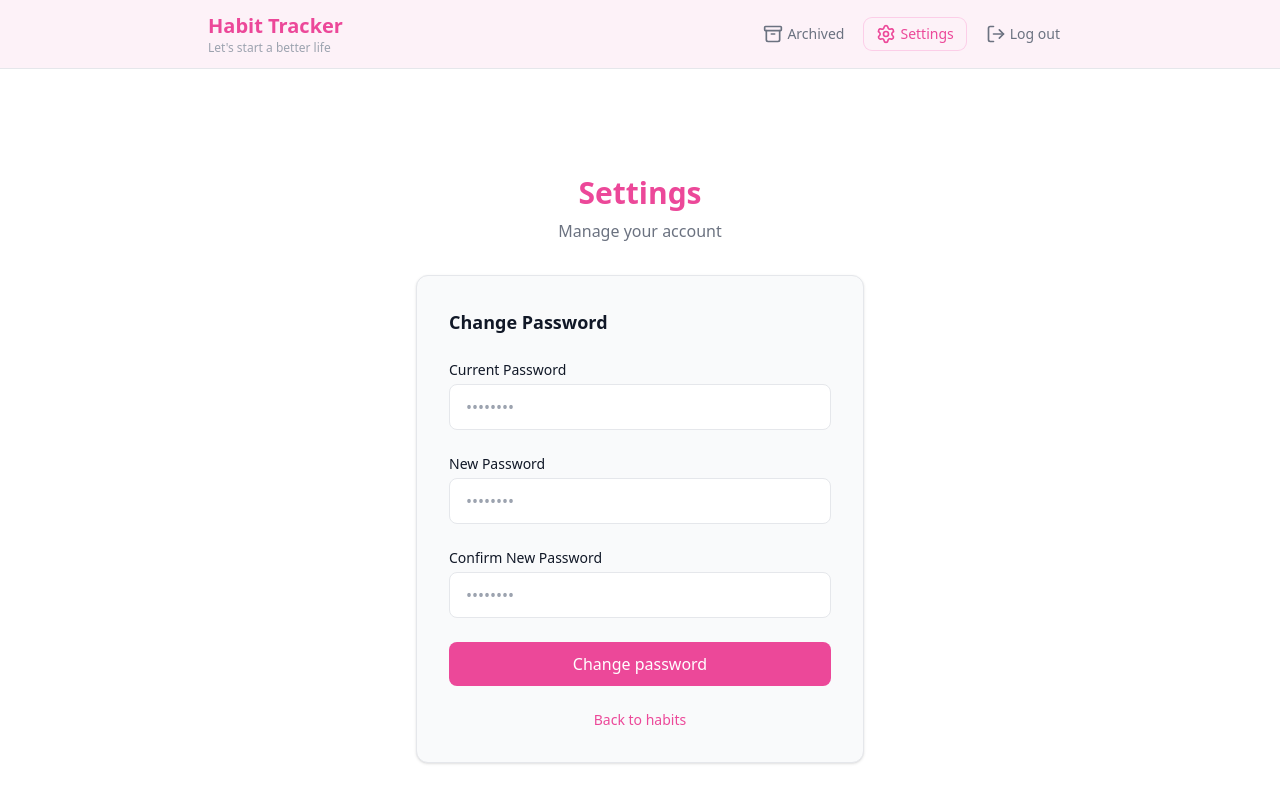
SettingsPage › submits valid data and shows success confirmation
Type "OldPass1" into the password field labelled "Current Password".
click(640, 407); type("OldPass1")  # box [449,384,831,430]
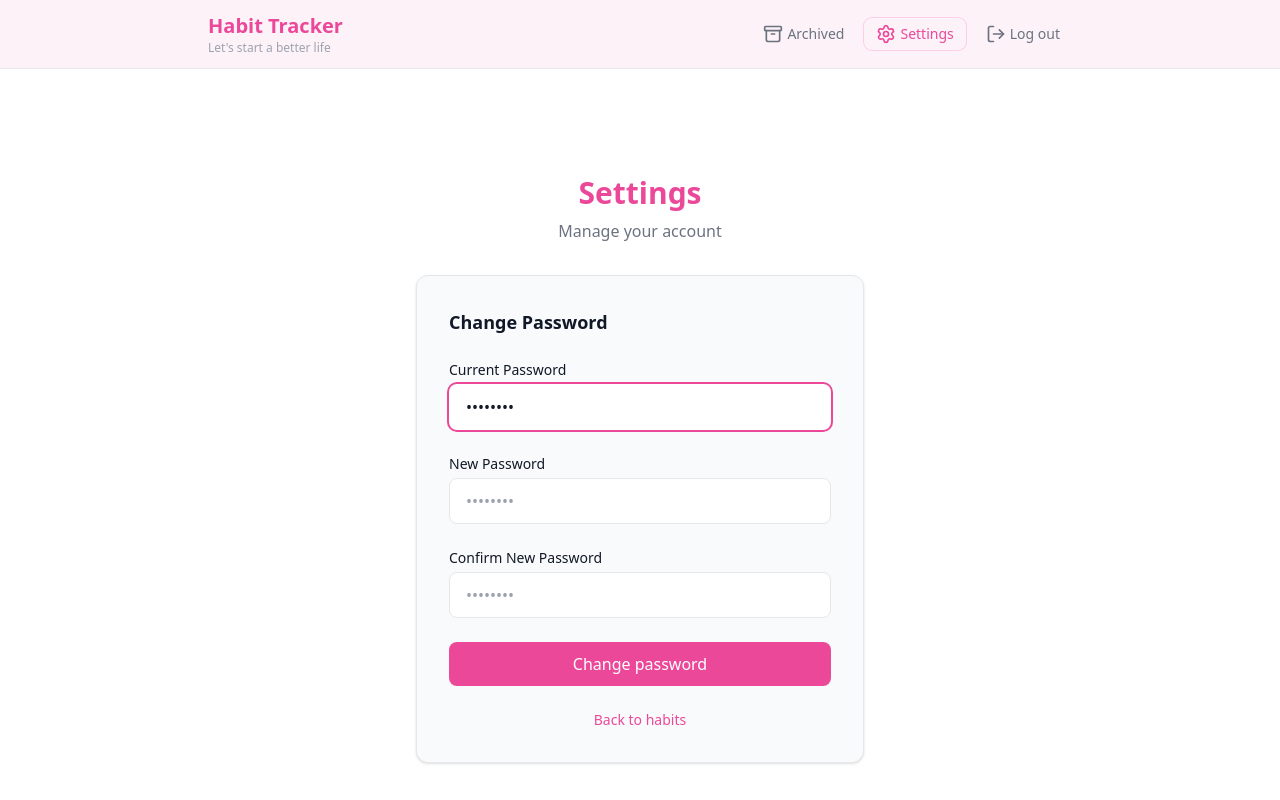
Type "NewSecure1" into the password field labelled "New Password".
click(640, 501); type("NewSecure1")  # box [449,478,831,524]
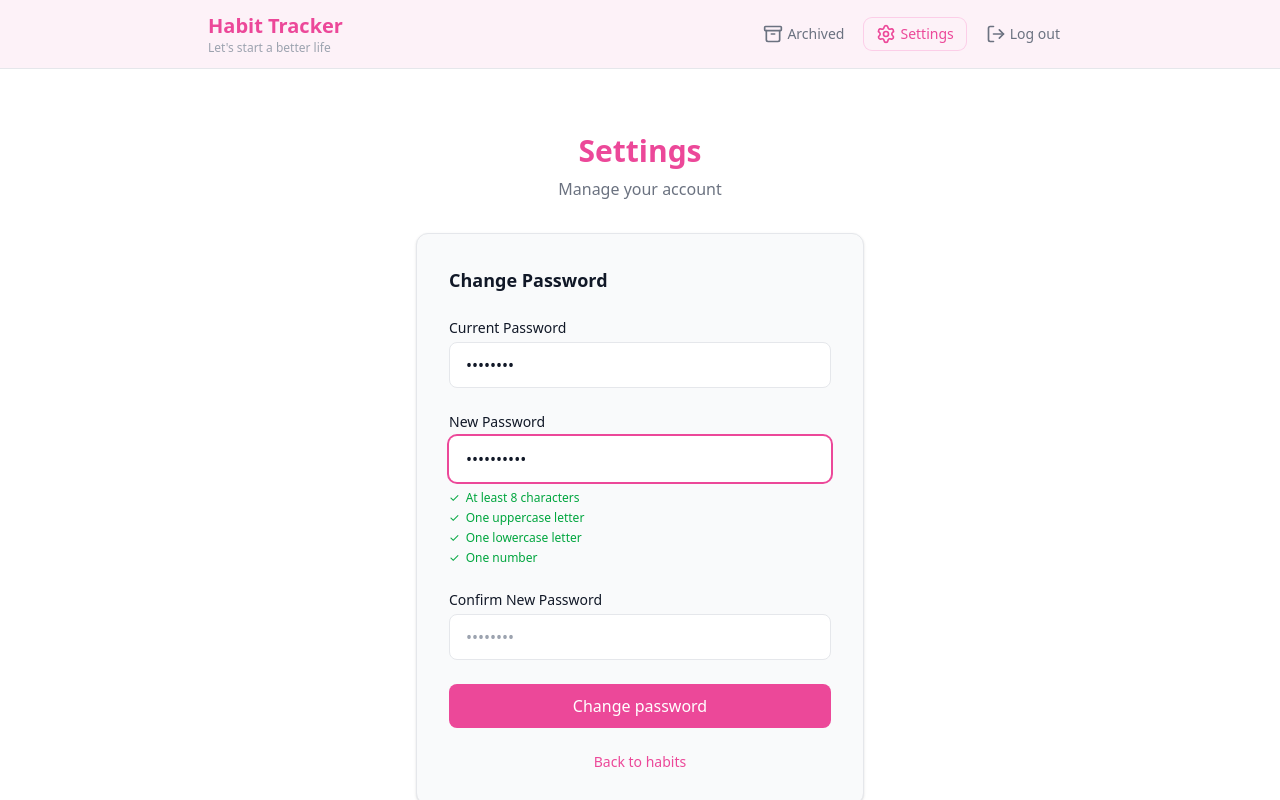
Type "NewSecure1" into the password field labelled "Confirm New Password".
click(640, 637); type("NewSecure1")  # box [449,614,831,660]
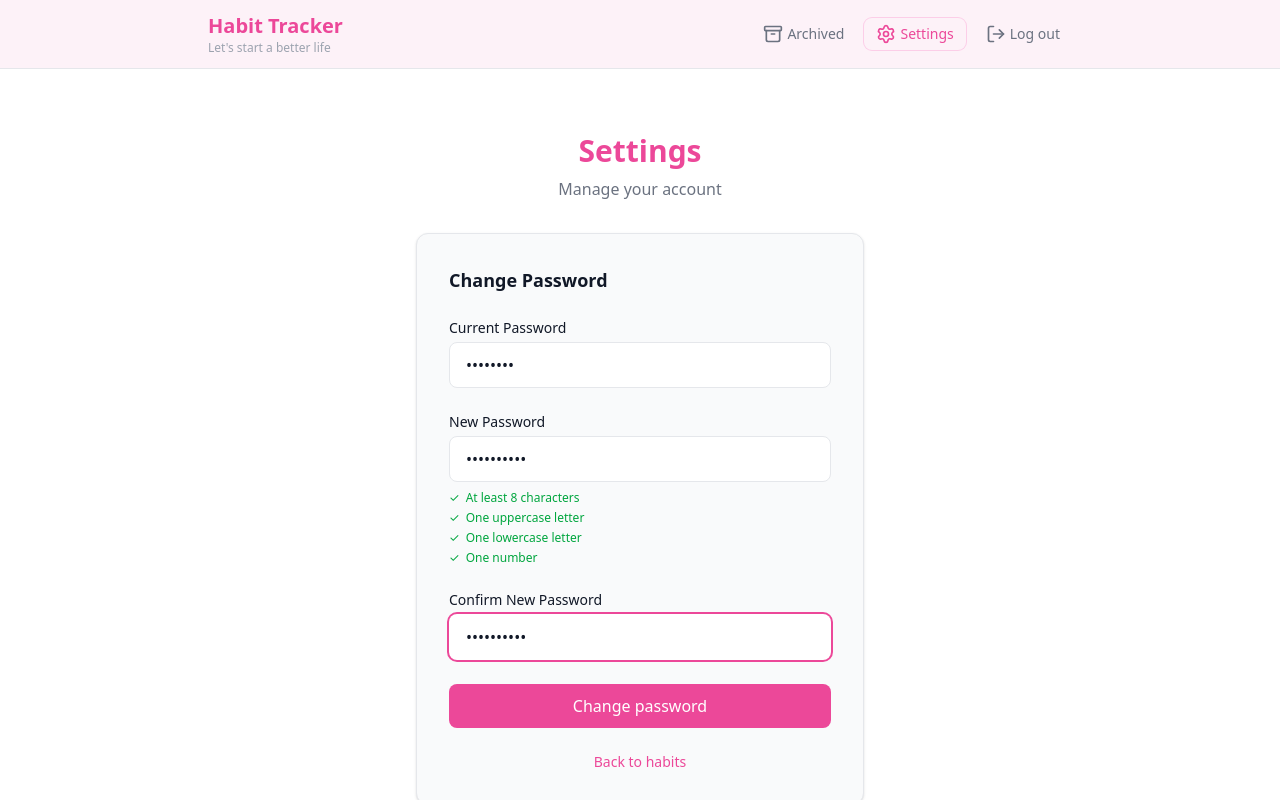
Click the button "Change password".
click(640, 706)  # box [449,684,831,728]
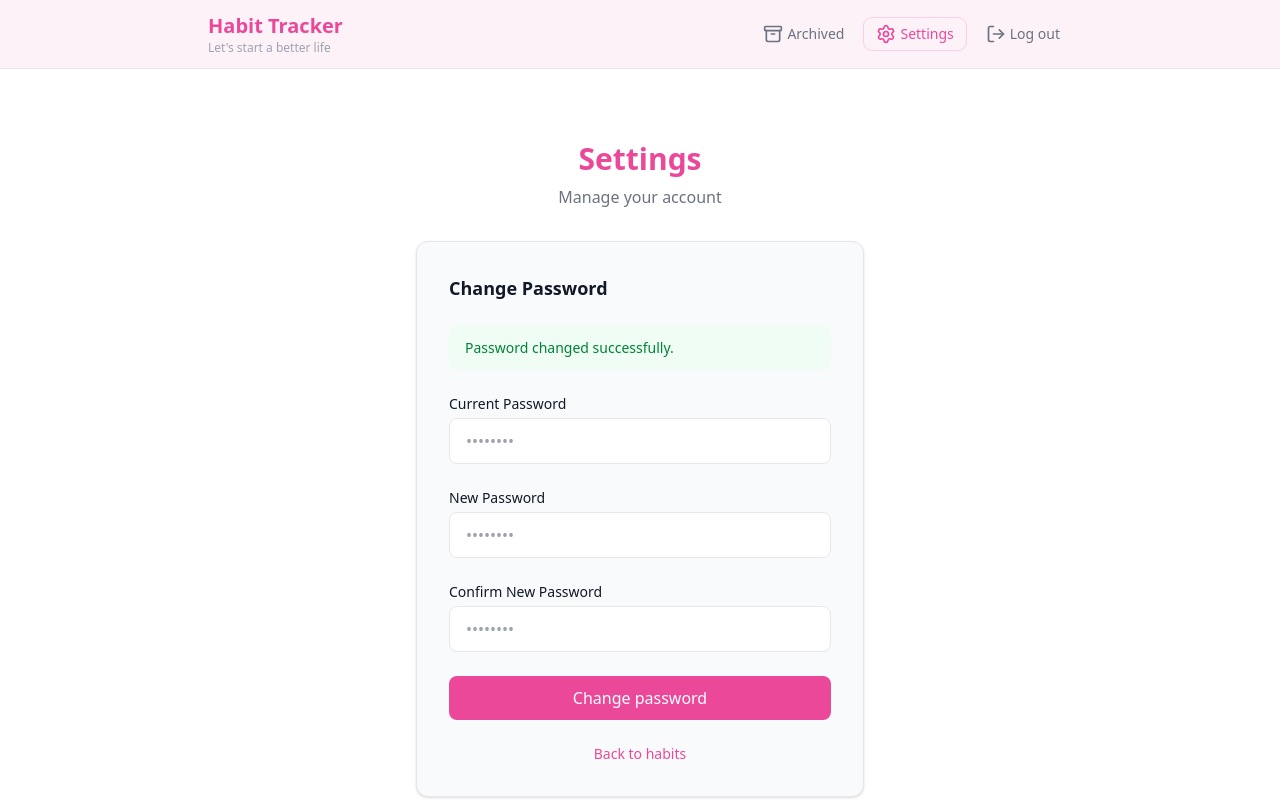
Now the text "Password changed successfully." is shown, box [449,326,831,370]
